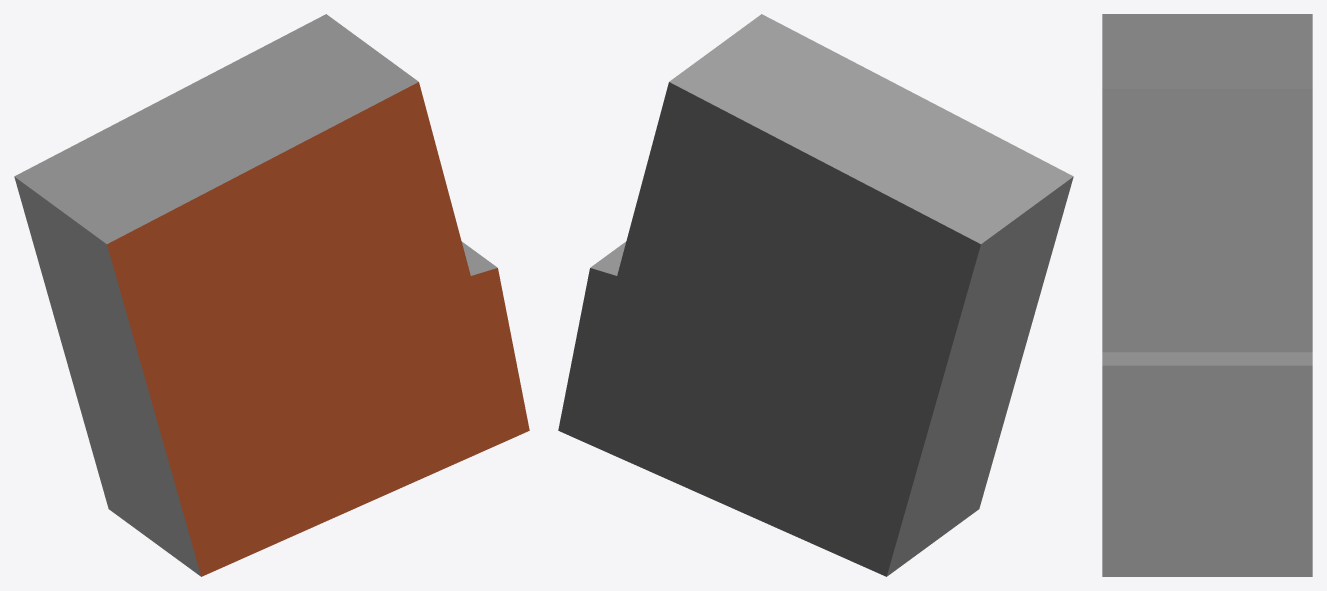
Rendered from construction_5934_assumed_A_Casa_h6m.obj.
3 renders of one model, left to right at view 1: azimuth 30°, elevation 25°; view 2: azimuth 150°, elevation 25°; view 3: azimuth 270°, elevation 25°, orthographic. The views are drawn at different scales.
Parts seen in each view (by area): view 1: construction_5934_assumed_A_Casa; view 2: construction_5934_assumed_A_Casa; view 3: construction_5934_assumed_A_Casa.
Boxes of the visible parts, left/top/right/bottom form: construction_5934_assumed_A_Casa: left=14, top=14, right=529, bottom=576; construction_5934_assumed_A_Casa: left=558, top=14, right=1073, bottom=576; construction_5934_assumed_A_Casa: left=1102, top=14, right=1312, bottom=576.
Size of the model in its own units: 15.8 by 15.78 by 6.
